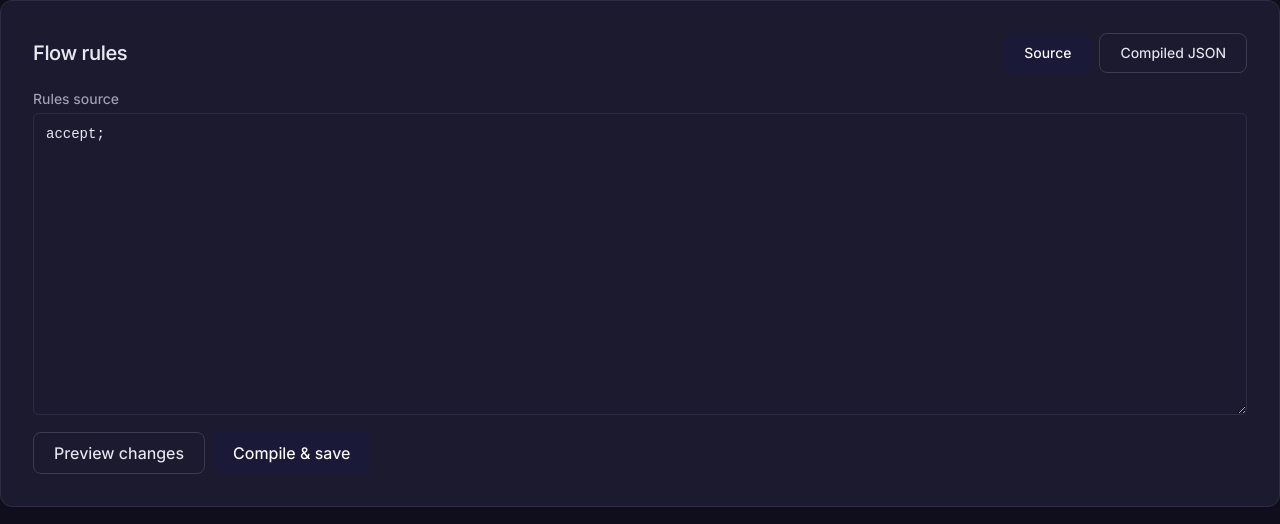
Test: RulesEditor › shows the compiled JSON in the raw tab
Expected: the text box labelled "Rules source" is shown, 33,113 -> 1247,415
Click the button "Compiled JSON". click: (1173, 53)
box: 1099,33 -> 1247,73
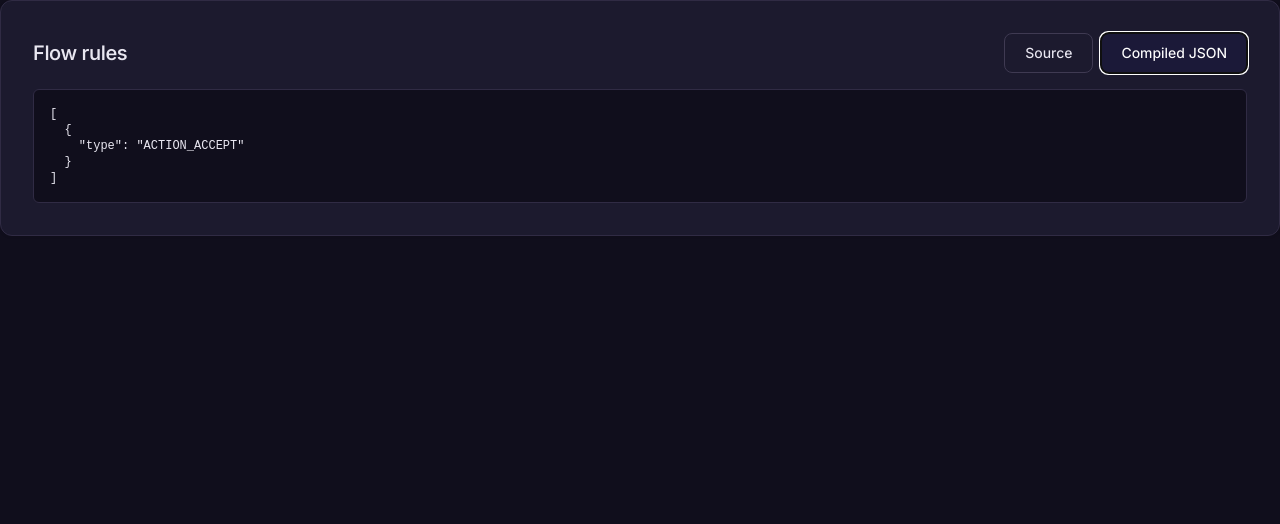
Expected: the text "[ { \"type\": \"ACTION_ACCEPT\" } ]" is shown, 33,89 -> 1247,203
